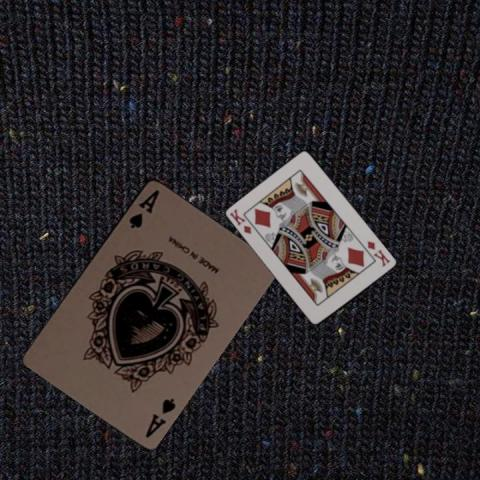As: (125, 185, 161, 230), (142, 394, 177, 439)
Kd: (365, 237, 391, 268), (227, 206, 253, 235)
